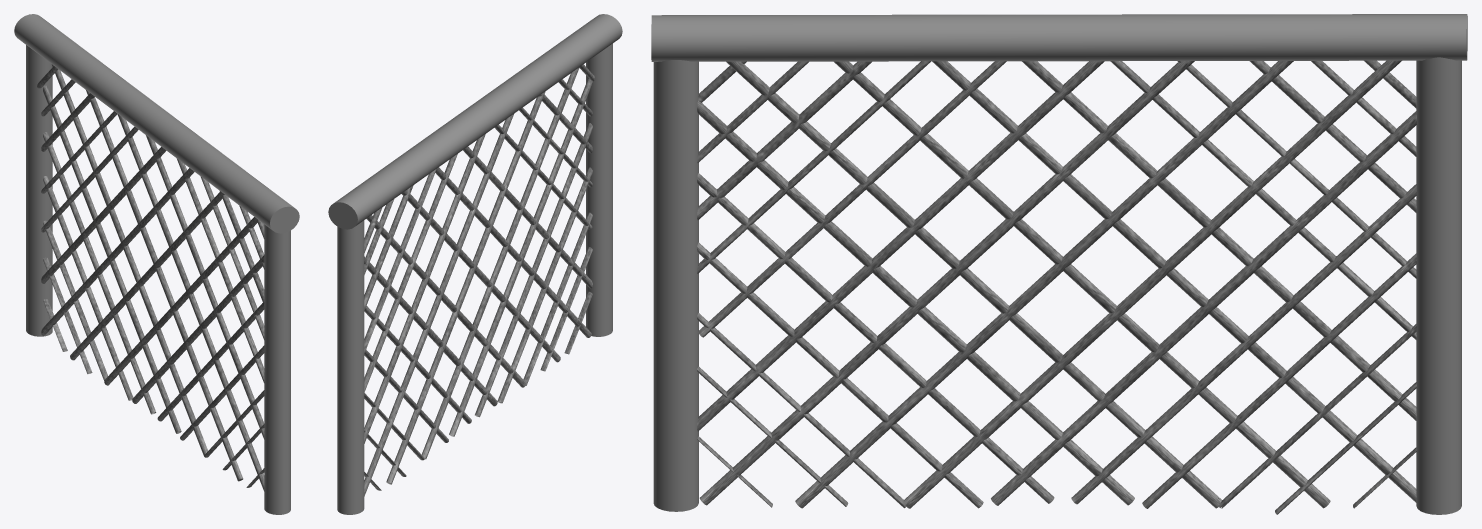
Rendered from Fence 1.fbx.
The picture shows the model from 3 angles, left to right: view 1: azimuth 30°, elevation 25°; view 2: azimuth 150°, elevation 25°; view 3: azimuth 270°, elevation 25°; orthographic projection. The views are drawn at different scales.
Parts seen in each view (by area): view 1: pasted__pasted__pCylinder1, pasted__pasted__pCylinder3, pasted__pCylinder1, pasted__pasted__pasted__pCylinder8, pasted__pasted__pCylinder8, pasted__pasted__pasted__pCylinder7, pasted__pasted__pasted__pCylinder5, pasted__pasted__pasted__pasted__pCylinder4, pasted__pCylinder2, pasted__pasted__pCylinder5, pasted__pasted__pCylinder6, pasted__pCylinder4 (+14 smaller); view 2: pasted__pasted__pCylinder1, pasted__pCylinder1, pasted__pasted__pCylinder3, pasted__pasted__pCylinder5, pasted__pCylinder4, pasted__pasted__pCylinder6, pasted__pasted__pCylinder2, pasted__pasted__pasted__pCylinder4, pCylinder2, pasted__pCylinder3, pasted__pasted__pCylinder4, pasted__pasted__pasted__pCylinder7 (+16 smaller); view 3: pasted__pasted__pCylinder1, pasted__pCylinder1, pasted__pasted__pCylinder3, pasted__pasted__pCylinder8, pasted__pasted__pasted__pCylinder8, pasted__pasted__pasted__pCylinder7, pasted__pCylinder4, pasted__pasted__pCylinder5, pasted__pasted__pCylinder6, pasted__pasted__pasted__pCylinder5, pasted__pasted__pCylinder2, pasted__pasted__pasted__pasted__pCylinder4 (+17 smaller).
Part boxes in pixels (bbox=[...]): pasted__pasted__pCylinder1: bbox=[14, 14, 299, 233]; pasted__pasted__pCylinder3: bbox=[264, 224, 290, 514]; pasted__pCylinder1: bbox=[26, 45, 52, 336]; pasted__pasted__pasted__pCylinder8: bbox=[86, 90, 243, 481]; pasted__pasted__pCylinder8: bbox=[51, 64, 207, 455]; pasted__pasted__pasted__pCylinder7: bbox=[117, 113, 264, 491]; pasted__pasted__pasted__pCylinder5: bbox=[43, 85, 181, 433]; pasted__pasted__pasted__pasted__pCylinder4: bbox=[146, 135, 264, 439]; pasted__pCylinder2: bbox=[43, 132, 156, 414]; pasted__pasted__pCylinder5: bbox=[70, 192, 224, 360]; pasted__pasted__pCylinder6: bbox=[41, 168, 194, 335]; pasted__pCylinder4: bbox=[104, 217, 257, 385]; pasted__pasted__pCylinder1: bbox=[328, 14, 622, 229]; pasted__pCylinder1: bbox=[337, 220, 364, 514]; pasted__pasted__pCylinder3: bbox=[586, 43, 612, 336]; pasted__pasted__pCylinder5: bbox=[386, 91, 545, 484]; pasted__pCylinder4: bbox=[421, 67, 579, 459]; pasted__pasted__pCylinder6: bbox=[364, 114, 513, 496]; pasted__pasted__pCylinder2: bbox=[449, 78, 592, 436]; pasted__pasted__pasted__pCylinder4: bbox=[364, 134, 485, 443]; pCylinder2: bbox=[475, 123, 592, 417]; pasted__pCylinder3: bbox=[497, 167, 592, 403]; pasted__pasted__pCylinder4: bbox=[364, 154, 457, 392]; pasted__pasted__pasted__pCylinder7: bbox=[435, 167, 591, 337]; pasted__pasted__pCylinder1: bbox=[651, 14, 1467, 61]; pasted__pCylinder1: bbox=[1416, 57, 1461, 514]; pasted__pasted__pCylinder3: bbox=[653, 60, 698, 511]; pasted__pasted__pCylinder8: bbox=[903, 60, 1401, 508]; pasted__pasted__pasted__pCylinder8: bbox=[795, 61, 1293, 508]; pasted__pasted__pasted__pCylinder7: bbox=[699, 61, 1194, 505]; pasted__pCylinder4: bbox=[726, 61, 1221, 508]; pasted__pasted__pCylinder5: bbox=[834, 61, 1330, 508]; pasted__pasted__pCylinder6: bbox=[932, 61, 1416, 502]; pasted__pasted__pasted__pCylinder5: bbox=[991, 111, 1416, 505]; pasted__pasted__pCylinder2: bbox=[697, 100, 1134, 505]; pasted__pasted__pasted__pasted__pCylinder4: bbox=[697, 61, 1104, 431].
Bounding box in the file's own units: 1.08 × 9.92 × 14.77.
1 material, 1 textured.
